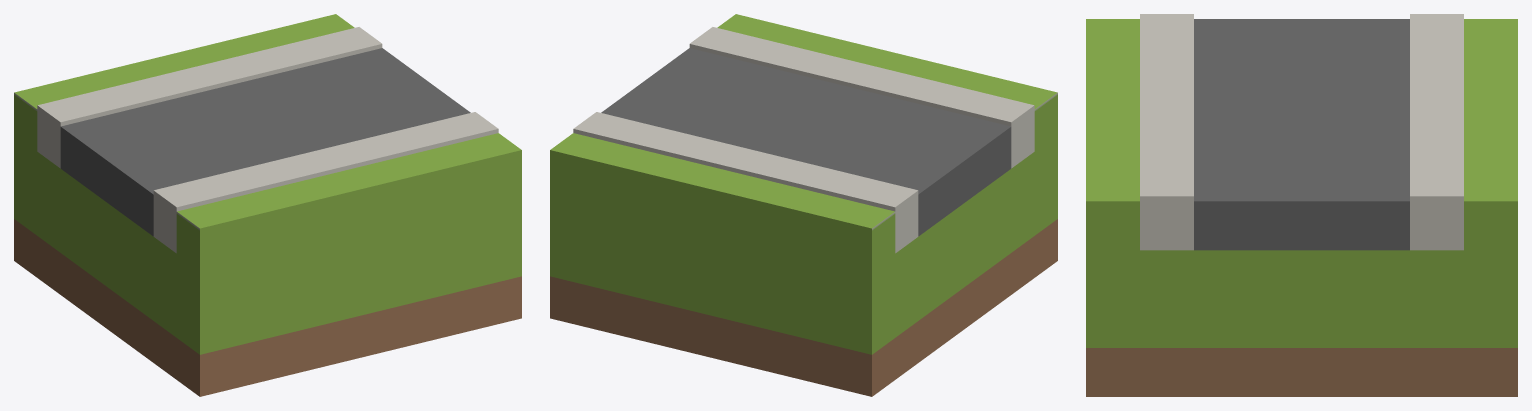
The model's file is road-straight-high.obj.
3 renders of one model, left to right at view 1: azimuth 30°, elevation 25°; view 2: azimuth 150°, elevation 25°; view 3: azimuth 270°, elevation 25°, orthographic. The views are drawn at different scales.
Parts seen in each view (by area): view 1: road-straight-high_Cube.035; view 2: road-straight-high_Cube.035; view 3: road-straight-high_Cube.035.
Boxes of the visible parts, x1,y1,x2,y2 form: road-straight-high_Cube.035: (14, 14, 521, 396); road-straight-high_Cube.035: (550, 14, 1057, 396); road-straight-high_Cube.035: (1086, 14, 1517, 396).
Bounding box in the file's own units: 8 × 4.1 × 8.
1 material, 1 textured.
